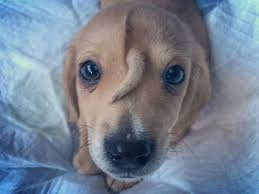dog: (76, 57, 189, 181)
